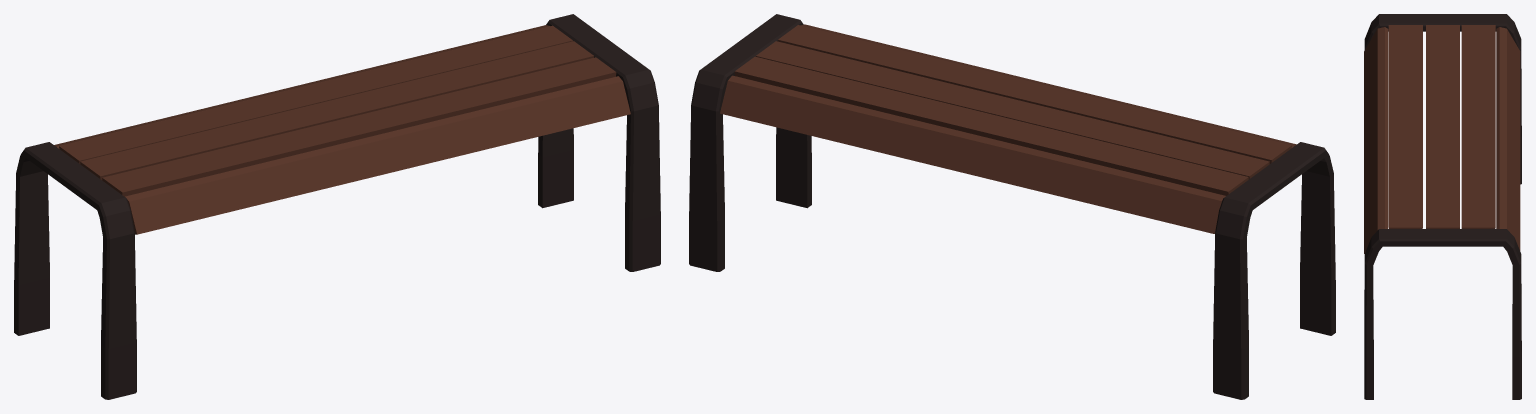
The model's file is bench_a.gltf.
3 views of the same model, side by side, from view 1: azimuth 30°, elevation 25°; view 2: azimuth 150°, elevation 25°; view 3: azimuth 270°, elevation 25° (orthographic). The views are drawn at different scales.
Visible parts, largest first — view 1: Bench_A; view 2: Bench_A; view 3: Bench_A.
Boxes of the visible parts, bbox=[...] form: Bench_A: bbox=[14, 14, 660, 399]; Bench_A: bbox=[689, 14, 1335, 399]; Bench_A: bbox=[1364, 14, 1521, 399].
Size of the model in its own units: 1.66 by 0.5435 by 0.4868.
